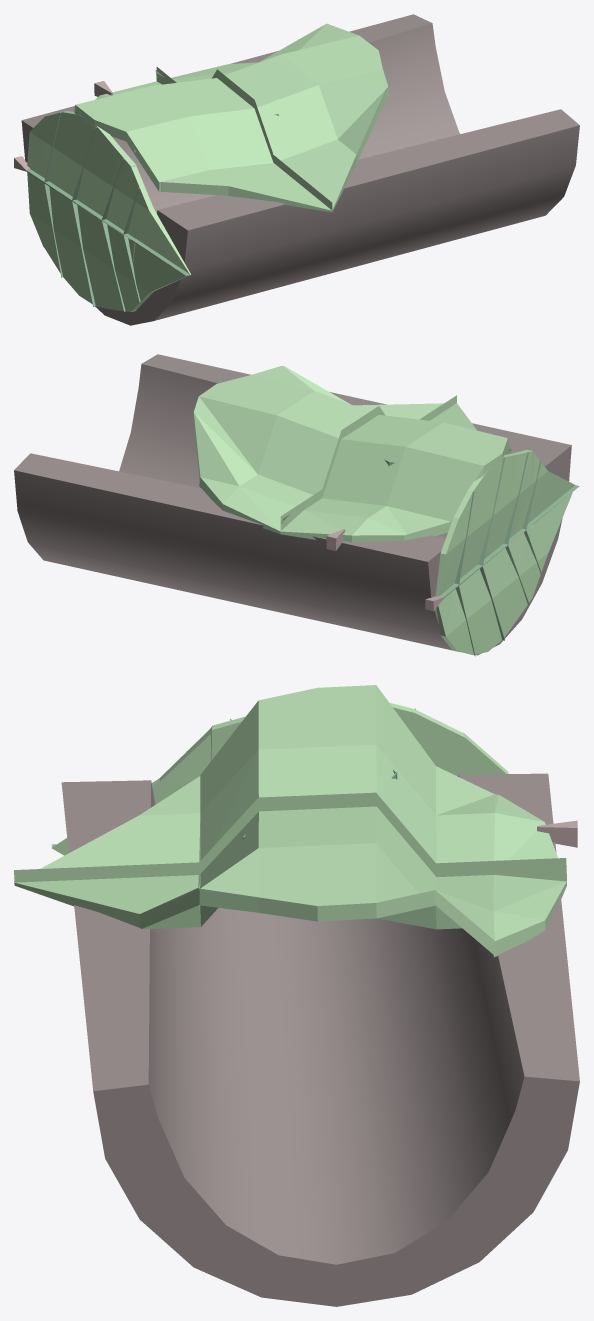
Rendered from Bassinet.fbx.
The picture shows the model from 3 angles, top to bottom: view 1: azimuth 30°, elevation 25°; view 2: azimuth 150°, elevation 25°; view 3: azimuth 270°, elevation 25°; orthographic projection. The views are drawn at different scales.
Visible parts, largest first — view 1: pasted__pCylinder1, pasted__pasted__pPlane1, pasted__pPlane1, pasted__pCube2; view 2: pasted__pCylinder1, pasted__pasted__pPlane1, pasted__pPlane1, pasted__pCube2; view 3: pasted__pCylinder1, pasted__pasted__pPlane1, pasted__pPlane1.
Boxes of the visible parts, x1=… form: pasted__pCylinder1: x1=21, y1=14, x2=579, y2=325; pasted__pasted__pPlane1: x1=74, y1=23, x2=388, y2=212; pasted__pPlane1: x1=27, y1=111, x2=190, y2=311; pasted__pCube2: x1=26, y1=169, x2=189, y2=275; pasted__pCylinder1: x1=14, y1=354, x2=571, y2=655; pasted__pasted__pPlane1: x1=193, y1=366, x2=510, y2=542; pasted__pPlane1: x1=435, y1=449, x2=579, y2=655; pasted__pCube2: x1=440, y1=485, x2=579, y2=597; pasted__pCylinder1: x1=61, y1=773, x2=579, y2=1306; pasted__pasted__pPlane1: x1=14, y1=685, x2=566, y2=957; pasted__pPlane1: x1=51, y1=702, x2=508, y2=855.
Bounding box in the file's own units: 4.96 × 2.23 × 3.68.
